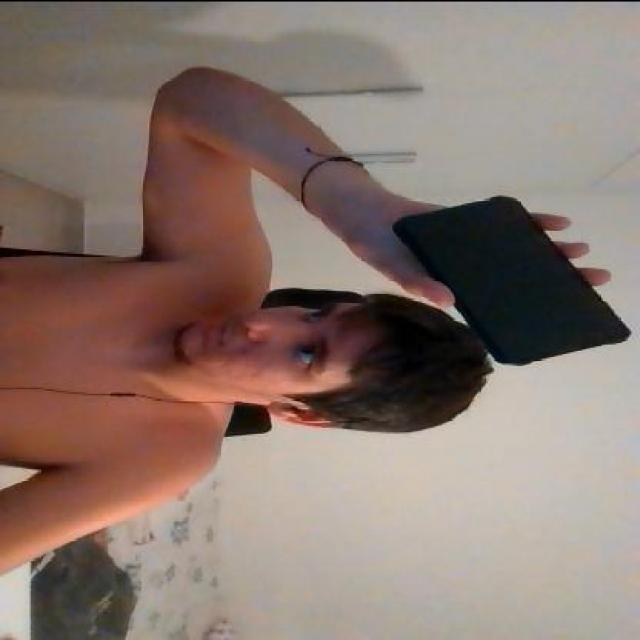phone: (396, 193, 630, 362)
